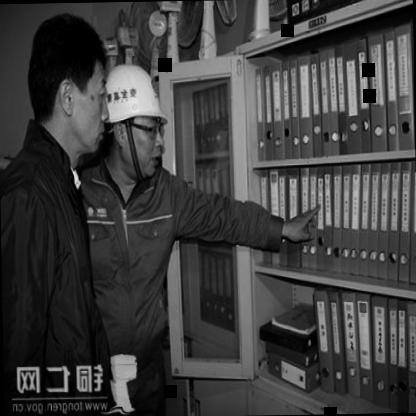head: (22, 6, 107, 160)
helmet: (104, 66, 170, 178)
